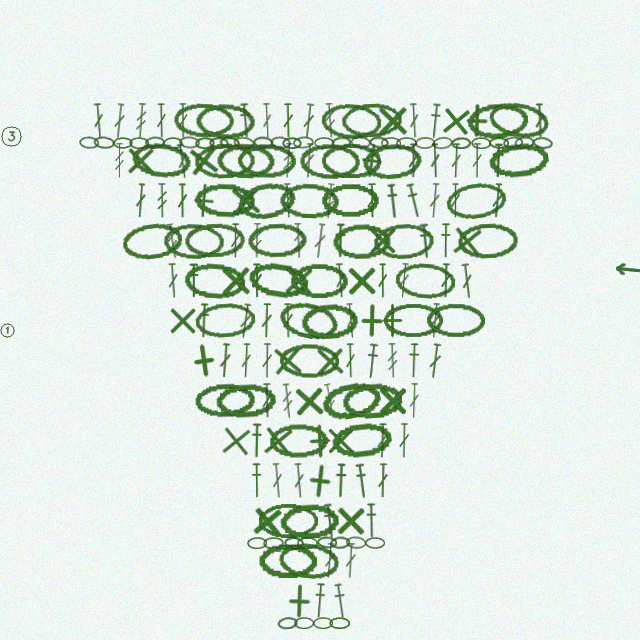chain: (276, 297, 342, 344), (486, 98, 552, 143), (319, 378, 383, 423), (235, 178, 299, 223), (444, 179, 509, 222), (246, 259, 310, 302), (120, 220, 184, 262), (277, 540, 340, 581), (330, 420, 393, 461), (130, 140, 193, 181), (487, 140, 550, 181), (361, 141, 424, 181), (183, 261, 246, 300), (466, 101, 529, 140), (341, 381, 403, 420), (194, 301, 256, 340), (394, 261, 456, 300), (373, 222, 435, 260), (320, 102, 382, 140), (215, 382, 276, 420), (194, 142, 256, 179), (279, 502, 339, 540), (300, 302, 360, 340), (194, 382, 255, 419), (184, 222, 245, 259), (247, 222, 308, 259), (457, 222, 518, 259), (194, 182, 255, 219), (173, 102, 234, 139), (341, 102, 402, 139), (279, 182, 339, 219), (216, 142, 276, 179), (163, 223, 224, 259), (299, 143, 360, 179), (269, 423, 329, 459), (279, 343, 339, 379), (332, 223, 392, 259), (237, 143, 297, 179), (195, 103, 255, 139), (383, 303, 444, 338), (258, 503, 318, 538), (321, 143, 381, 178), (258, 543, 317, 578), (426, 303, 485, 338), (290, 263, 349, 298), (321, 183, 380, 218), (233, 136, 255, 150), (277, 616, 298, 630), (432, 136, 453, 150), (532, 136, 553, 150), (93, 136, 115, 149), (179, 136, 200, 149), (219, 136, 240, 149), (270, 136, 291, 149), (293, 136, 314, 149), (331, 136, 352, 149), (350, 136, 371, 149), (514, 136, 535, 149), (317, 536, 337, 549), (330, 536, 350, 549), (346, 536, 366, 549), (79, 136, 99, 149), (145, 136, 165, 149), (253, 136, 273, 149), (369, 136, 389, 149), (503, 136, 523, 149), (329, 617, 350, 629), (263, 537, 284, 549), (297, 537, 318, 549), (396, 137, 417, 149), (294, 617, 314, 629), (313, 617, 333, 629), (247, 537, 267, 549), (284, 537, 304, 549), (365, 537, 385, 549), (113, 137, 133, 149), (129, 137, 149, 149), (163, 137, 183, 149), (195, 137, 215, 149), (209, 137, 229, 149), (282, 137, 302, 149), (314, 137, 334, 149), (381, 137, 401, 149), (415, 137, 435, 149), (451, 137, 471, 149), (471, 137, 491, 149), (489, 137, 509, 149)
double: (427, 343, 443, 379), (459, 263, 475, 299), (312, 223, 328, 259), (238, 303, 253, 339), (175, 143, 190, 179), (112, 103, 127, 139), (301, 103, 316, 139), (270, 463, 285, 498), (490, 183, 505, 218), (292, 463, 306, 498), (218, 343, 232, 378), (344, 303, 358, 338), (428, 303, 442, 338), (166, 263, 180, 298), (397, 263, 411, 298), (302, 143, 316, 178), (323, 543, 336, 578), (344, 543, 357, 578), (376, 423, 389, 458), (260, 303, 273, 338), (334, 263, 347, 298), (134, 183, 147, 218), (428, 183, 441, 218), (92, 103, 105, 138), (377, 463, 389, 498), (398, 423, 410, 458), (261, 383, 273, 418), (408, 383, 420, 418), (240, 343, 252, 378), (261, 343, 273, 378), (282, 303, 294, 338), (251, 263, 263, 298), (440, 263, 452, 298), (282, 183, 294, 218), (366, 183, 378, 218), (429, 143, 441, 178), (450, 143, 462, 178), (471, 143, 483, 178), (177, 103, 189, 138), (261, 103, 273, 138), (282, 103, 294, 138), (408, 103, 420, 138), (534, 103, 546, 138), (345, 343, 356, 378), (377, 263, 388, 298), (230, 223, 241, 258), (177, 183, 188, 218), (450, 183, 461, 218), (408, 143, 419, 178), (156, 103, 167, 138)
half_double: (404, 182, 424, 219), (332, 583, 349, 619), (321, 503, 338, 539), (353, 463, 370, 499), (364, 343, 380, 379), (417, 223, 433, 259), (385, 183, 401, 219), (427, 103, 443, 139), (312, 583, 327, 618), (238, 103, 253, 138), (334, 463, 348, 498), (407, 343, 421, 378), (197, 303, 211, 338), (491, 143, 505, 178), (365, 503, 378, 538), (250, 463, 263, 498), (250, 423, 263, 458), (187, 263, 200, 298), (334, 223, 347, 258), (439, 223, 452, 258)
noise: (0, 124, 23, 148), (613, 263, 640, 276), (0, 321, 16, 339)
single: (184, 341, 223, 380), (184, 141, 223, 180), (352, 141, 391, 180), (248, 502, 286, 540), (301, 462, 339, 500), (217, 422, 255, 460), (259, 422, 297, 460), (448, 222, 486, 260), (437, 102, 475, 140), (269, 342, 306, 379), (280, 262, 317, 299), (185, 182, 222, 219), (227, 182, 264, 219), (281, 583, 317, 619), (302, 423, 338, 459), (291, 383, 327, 419), (312, 343, 348, 379), (333, 503, 368, 538), (323, 423, 358, 458), (375, 383, 410, 418), (165, 303, 200, 338), (354, 303, 389, 338), (375, 303, 410, 338), (218, 263, 253, 298), (344, 263, 379, 298), (365, 223, 400, 258), (123, 143, 158, 178), (375, 103, 410, 138), (459, 103, 494, 138)
treble: (321, 383, 339, 419), (164, 223, 181, 259), (280, 383, 295, 419), (322, 183, 337, 219), (281, 143, 295, 178), (134, 103, 148, 138), (323, 103, 337, 138), (386, 343, 399, 378), (292, 223, 305, 258), (251, 223, 263, 258), (156, 183, 168, 218), (114, 143, 125, 178)
